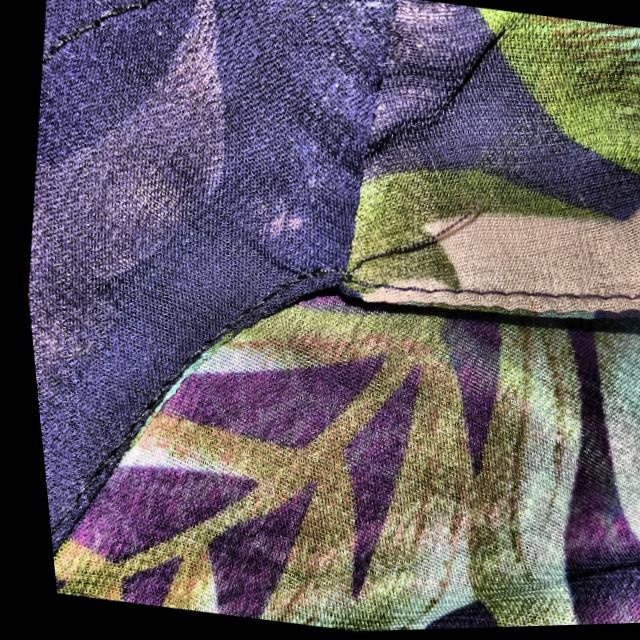Stitch: (257, 163, 550, 331)
